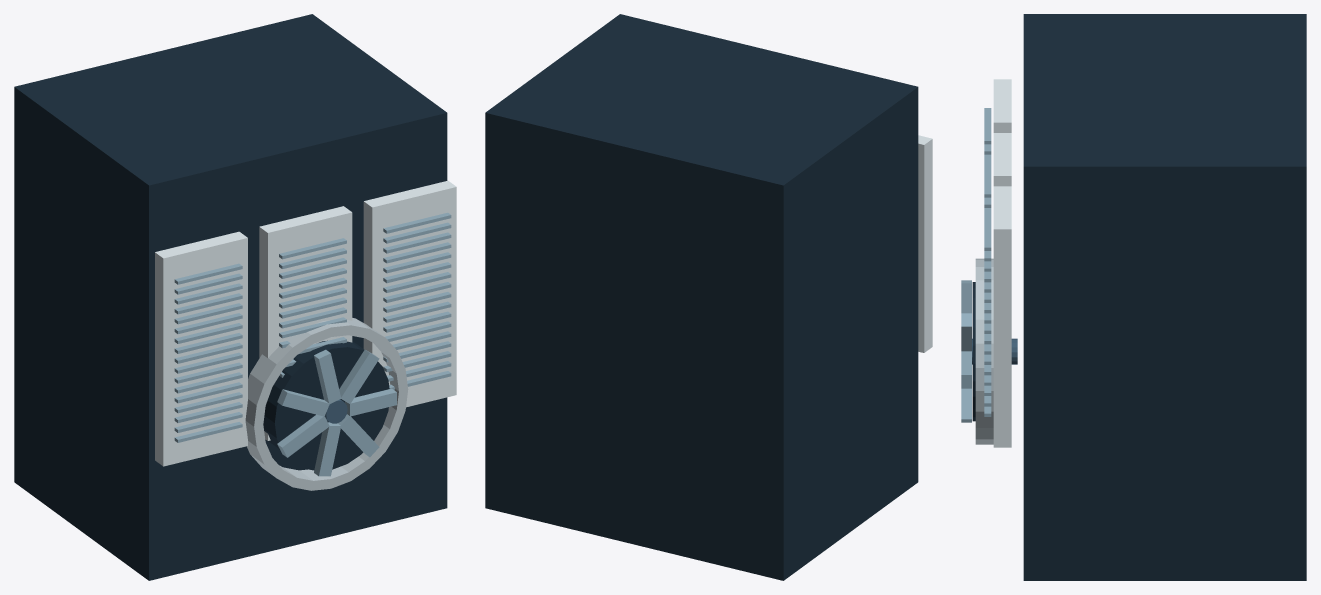
Rendered from 16_L76_MicroFiltrationSkid.fbx.
3 views of the same model, side by side, from view 1: azimuth 30°, elevation 25°; view 2: azimuth 150°, elevation 25°; view 3: azimuth 270°, elevation 25° (orthographic). The views are drawn at different scales.
Visible parts, largest first — view 1: MicroFiltrationSkid, MicroFiltrationSkid_Part_0056, MicroFiltrationSkid_Part_0055, MicroFiltrationSkid_Part_0061, MicroFiltrationSkid_Part_0058, MicroFiltrationSkid_Part_0062, MicroFiltrationSkid_Part_0059, MicroFiltrationSkid_Part_0057, MicroFiltrationSkid_Part_0060, MicroFiltrationSkid_Part_0063; view 2: MicroFiltrationSkid; view 3: MicroFiltrationSkid, MicroFiltrationSkid_Part_0056, MicroFiltrationSkid_Part_0055.
Part boxes in pixels (x1,y1,x2,y2): MicroFiltrationSkid: [14, 14, 456, 580]; MicroFiltrationSkid_Part_0056: [245, 318, 408, 490]; MicroFiltrationSkid_Part_0055: [263, 340, 389, 470]; MicroFiltrationSkid_Part_0061: [277, 414, 329, 457]; MicroFiltrationSkid_Part_0058: [339, 349, 379, 403]; MicroFiltrationSkid_Part_0062: [314, 422, 341, 476]; MicroFiltrationSkid_Part_0059: [314, 349, 341, 404]; MicroFiltrationSkid_Part_0057: [345, 388, 396, 416]; MicroFiltrationSkid_Part_0060: [277, 389, 329, 416]; MicroFiltrationSkid_Part_0063: [338, 414, 379, 457]; MicroFiltrationSkid: [485, 14, 932, 580]; MicroFiltrationSkid: [984, 14, 1306, 580]; MicroFiltrationSkid_Part_0056: [975, 258, 993, 444]; MicroFiltrationSkid_Part_0055: [972, 282, 975, 421].
Bounding box in the file's own units: 120 × 152 × 115.
